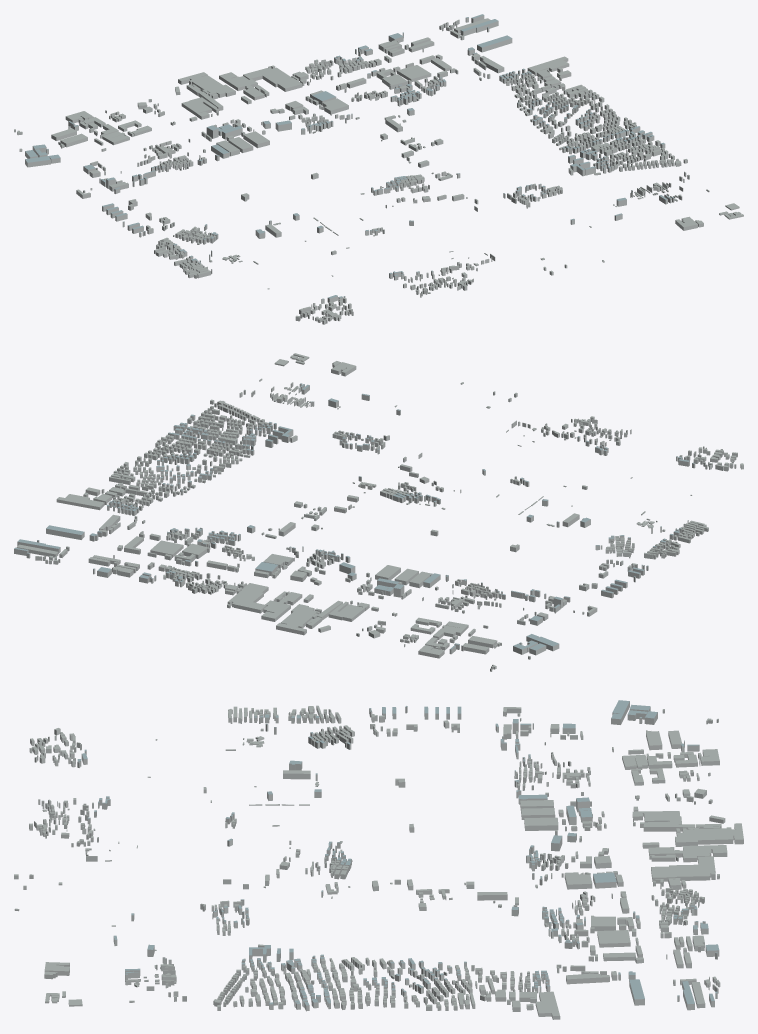
File: far.glb
The picture shows the model from 3 angles, top to bottom: view 1: azimuth 30°, elevation 25°; view 2: azimuth 150°, elevation 25°; view 3: azimuth 270°, elevation 25°; orthographic projection. The views are drawn at different scales.
Bounding box in the file's own units: 2205 × 34.5 × 2167.
